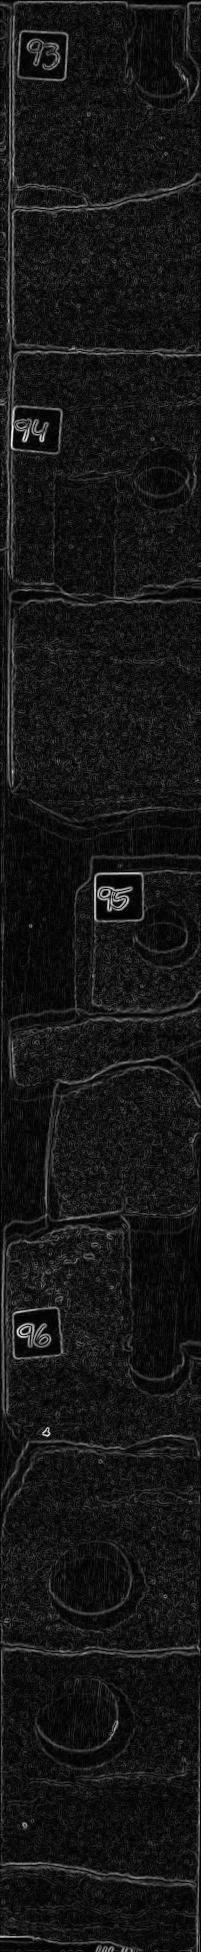hplug: (124, 901, 201, 969), (127, 441, 201, 510), (114, 1353, 201, 1404), (119, 65, 201, 115)
scal: (29, 1669, 141, 1779), (39, 1537, 154, 1640)
vplug: (114, 1205, 201, 1353), (19, 871, 104, 1021), (45, 466, 125, 608), (121, 1, 201, 67)
